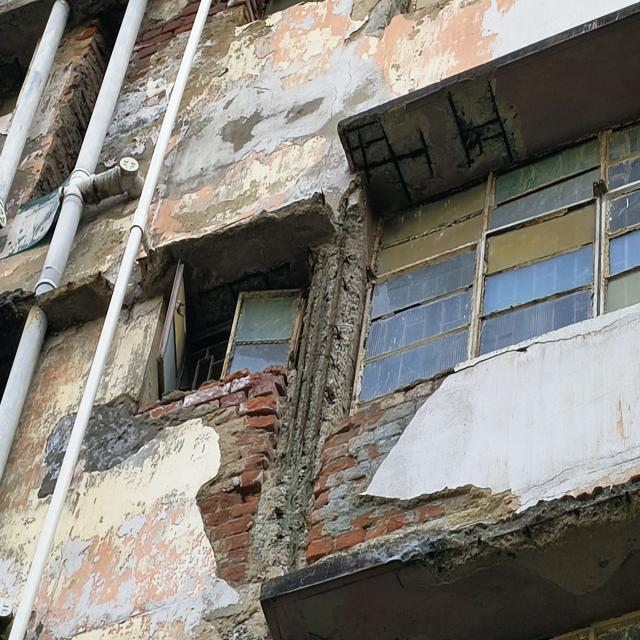Paint Peeling: (208, 0, 511, 217)
Spalling: (271, 30, 580, 569), (161, 403, 262, 564)
exposed brickwork: (140, 386, 280, 640), (298, 376, 478, 569)
